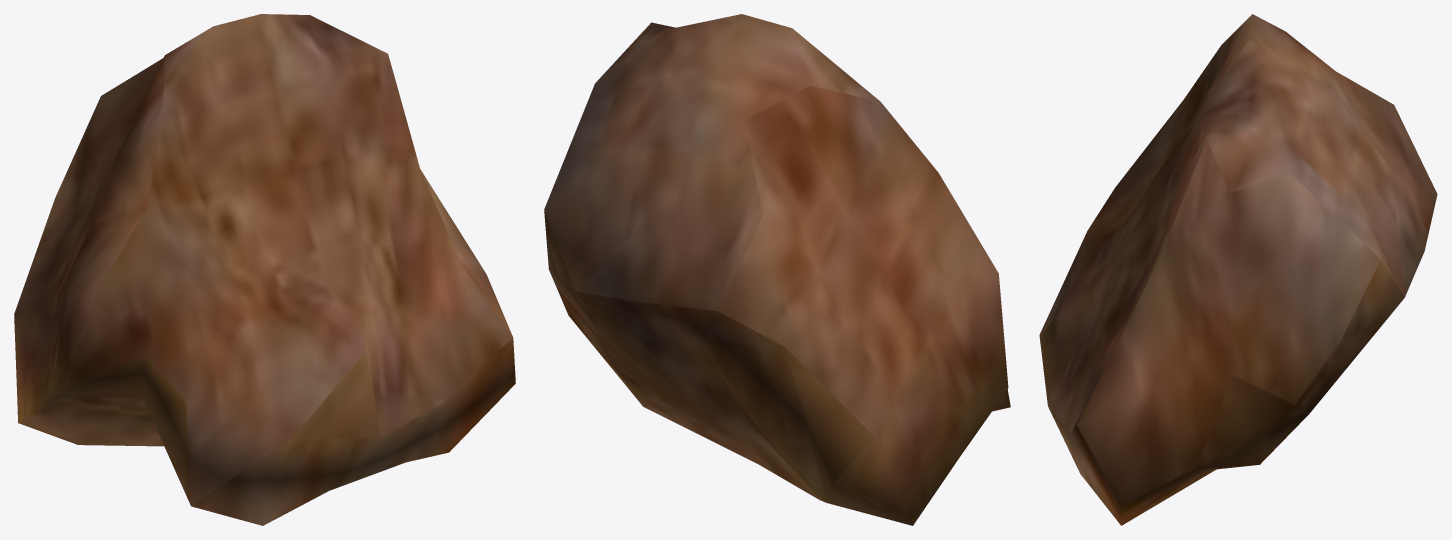
Rendered from namaqualand_stones_01_lo.glb.
3 renders of one model, left to right at view 1: azimuth 30°, elevation 25°; view 2: azimuth 150°, elevation 25°; view 3: azimuth 270°, elevation 25°, orthographic. The views are drawn at different scales.
Parts seen in each view (by area): view 1: namaqualand_stones_01_lo; view 2: namaqualand_stones_01_lo; view 3: namaqualand_stones_01_lo.
Part boxes in pixels (x1=…): namaqualand_stones_01_lo: x1=14, y1=14, x2=515, y2=525; namaqualand_stones_01_lo: x1=544, y1=14, x2=1010, y2=525; namaqualand_stones_01_lo: x1=1039, y1=14, x2=1437, y2=525.
Bounding box in the file's own units: 0.9984 × 0.9749 × 0.8193.
Materials: 1 (1 with a texture image).
